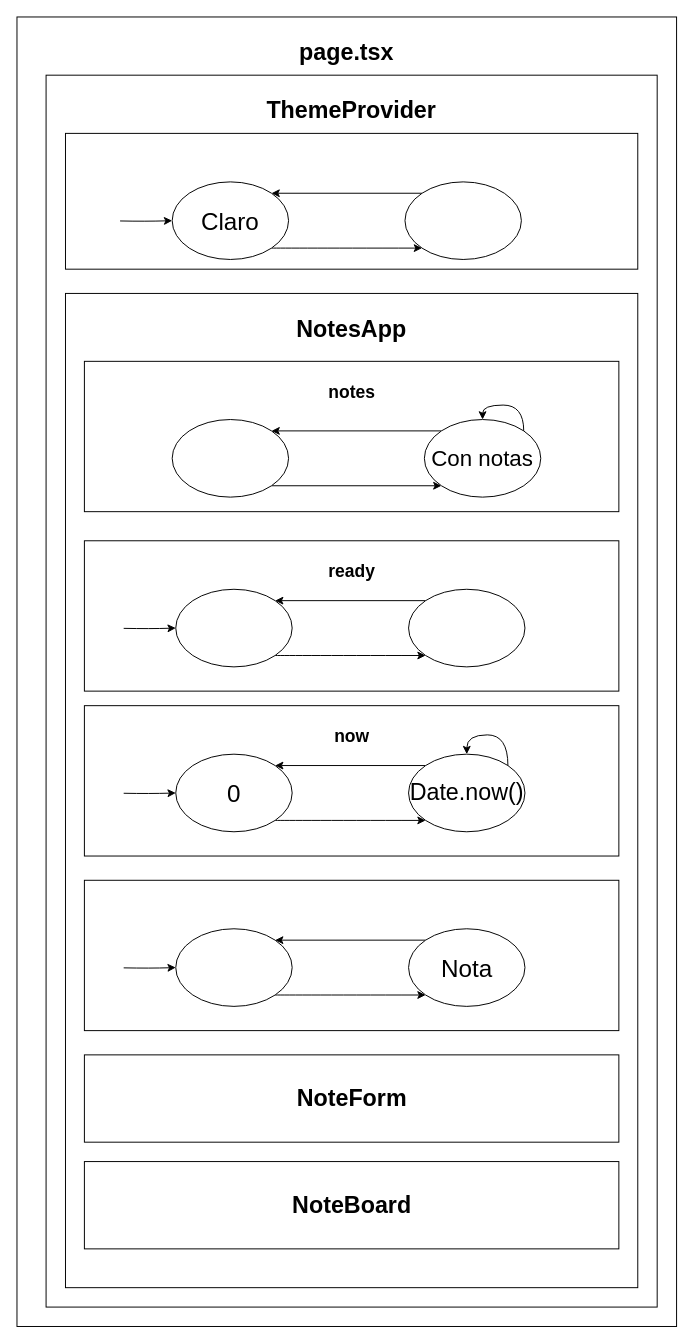
The diagram is 694 pixels wide and 1343 high, and some of its shapes have lost their labels. The box of each missing label's shape, as (x1, y1, x2, y2) in pixels:
editing: (83, 879, 619, 1031)
false: (175, 588, 292, 667)
null: (175, 928, 292, 1006)
Oscuro: (404, 181, 521, 259)
Sin notas: (171, 419, 289, 497)
theme: (65, 132, 638, 269)
true: (408, 588, 525, 667)
